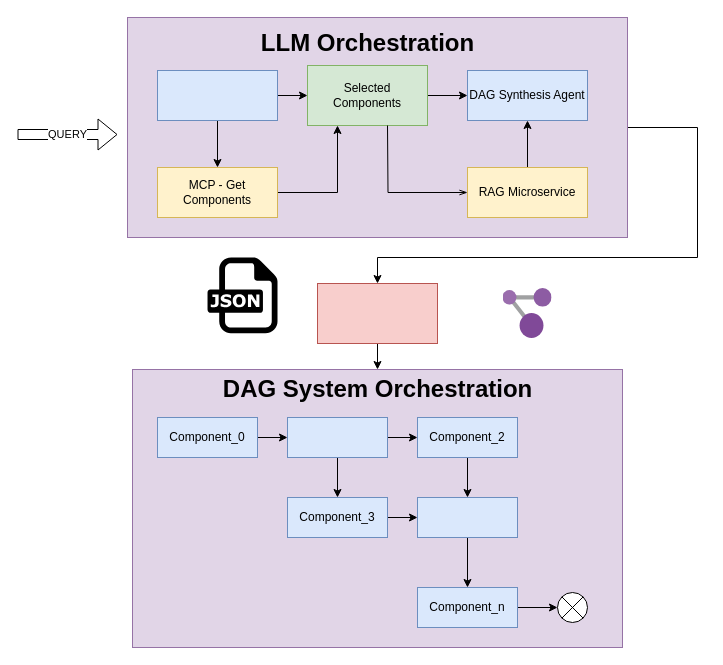
Image size: 723x665. Some labels were removed from this diagram. The shapes that lost their labels are listed below. From the top down, each one's centre as x and y in pixels, then its label:
At [217,95]: "Action Discovery Agent".
At [377,313]: "Human RLHF DRAFT".
At [337,437]: "Component_1".
At [467,517]: "Component_4".
